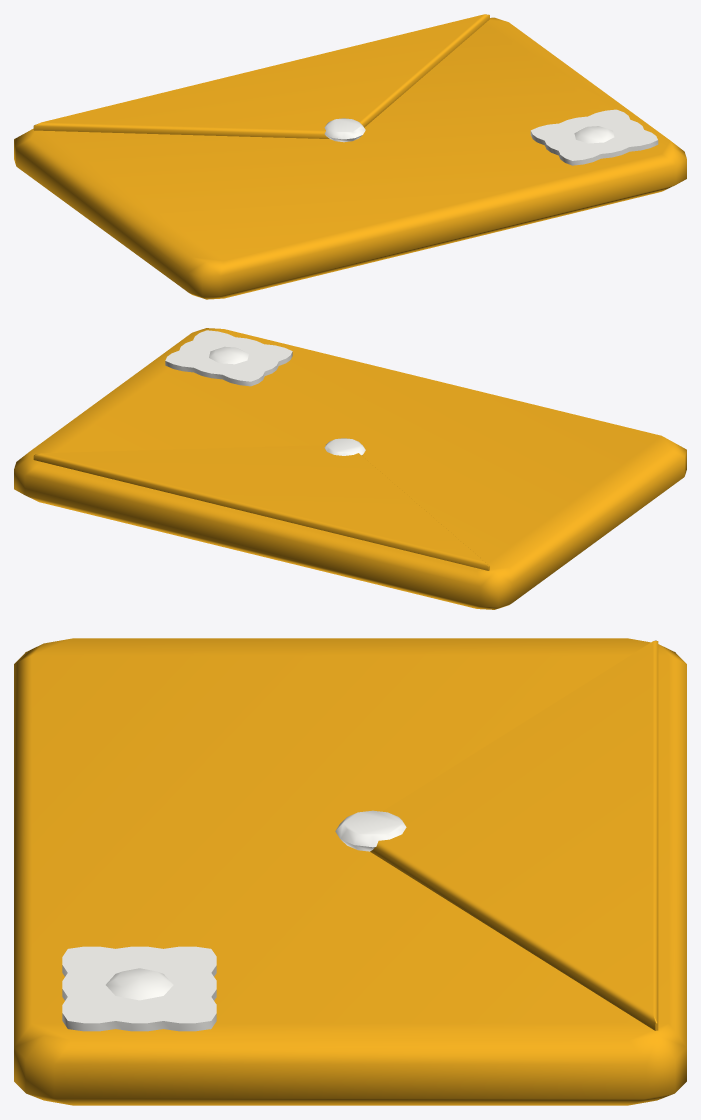
The model's file is fine_letter.glb.
3 renders of one model, top to bottom at view 1: azimuth 30°, elevation 25°; view 2: azimuth 150°, elevation 25°; view 3: azimuth 270°, elevation 25°, orthographic. The views are drawn at different scales.
Parts seen in each view (by area): view 1: fine_letter_structure; view 2: fine_letter_structure; view 3: fine_letter_structure.
Boxes of the visible parts, box(x1,y1,x2,y2) form: fine_letter_structure: box(14, 14, 686, 299); fine_letter_structure: box(14, 328, 686, 609); fine_letter_structure: box(14, 638, 686, 1105).
Size of the model in its own units: 1.1 by 0.1 by 0.75.
